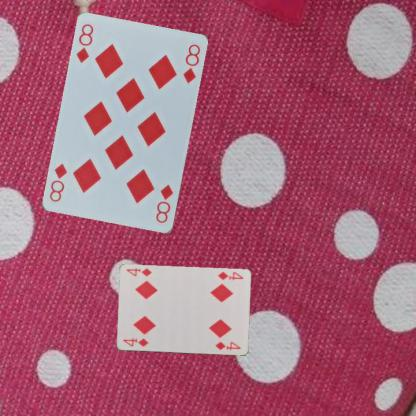4d: (120, 336, 149, 348), (215, 270, 244, 282)
8d: (153, 182, 175, 225), (74, 21, 95, 65)
